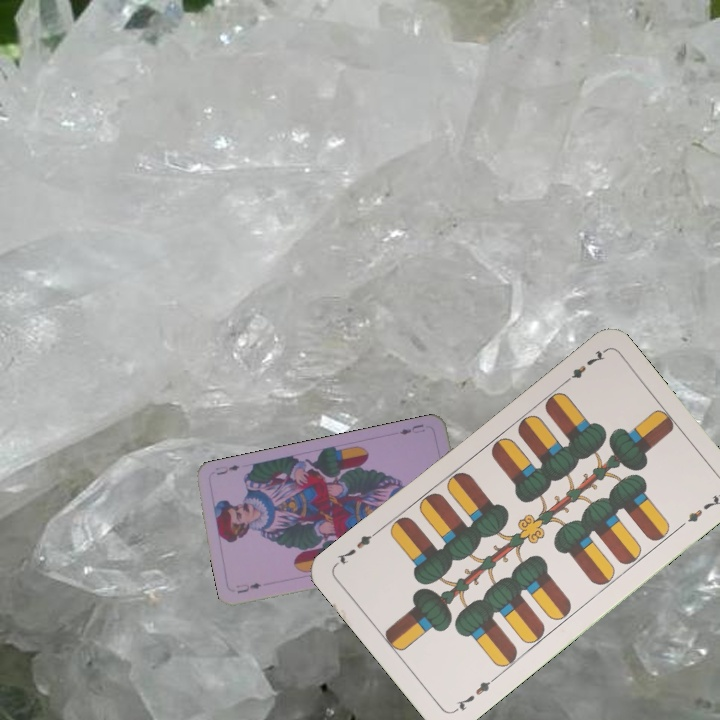E7: (449, 673, 499, 715), (558, 346, 608, 388)
EU: (395, 420, 427, 437), (232, 579, 264, 596)
